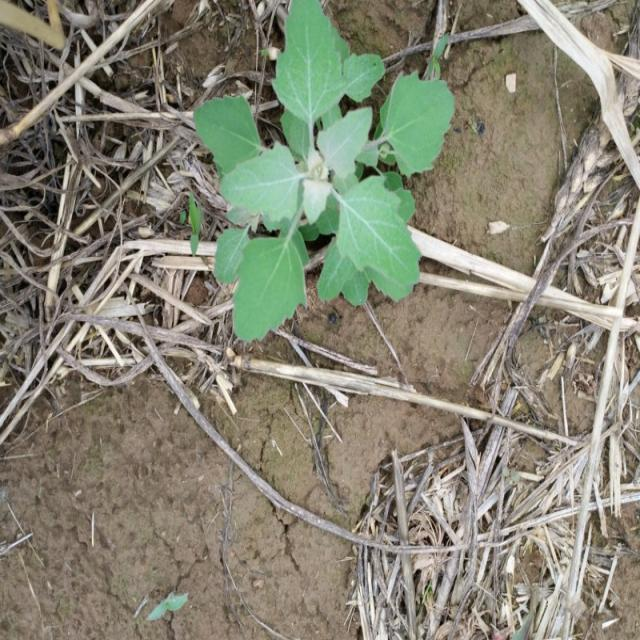goosefoots: (146, 0, 457, 313)
